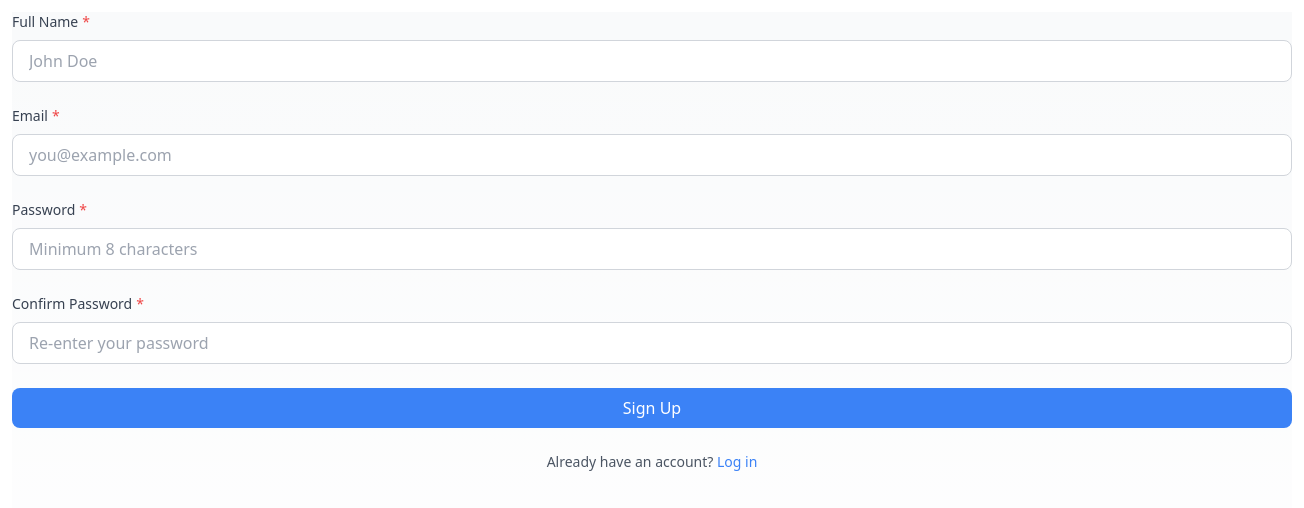
Test: SignupForm › validates password minimum length (8 characters)
This screenshot has width=1304, height=508.
Type "short" into the password field labelled "Password*" at (652, 249), box [12,228,1292,270]
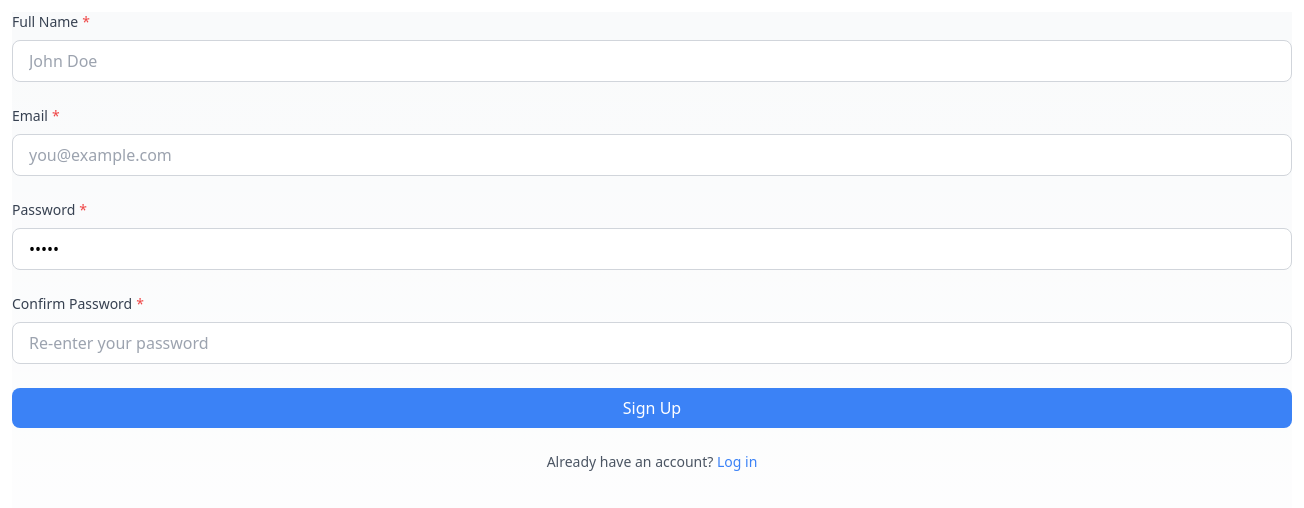
Click the button "Sign Up" at (652, 408), box [12,388,1292,428]
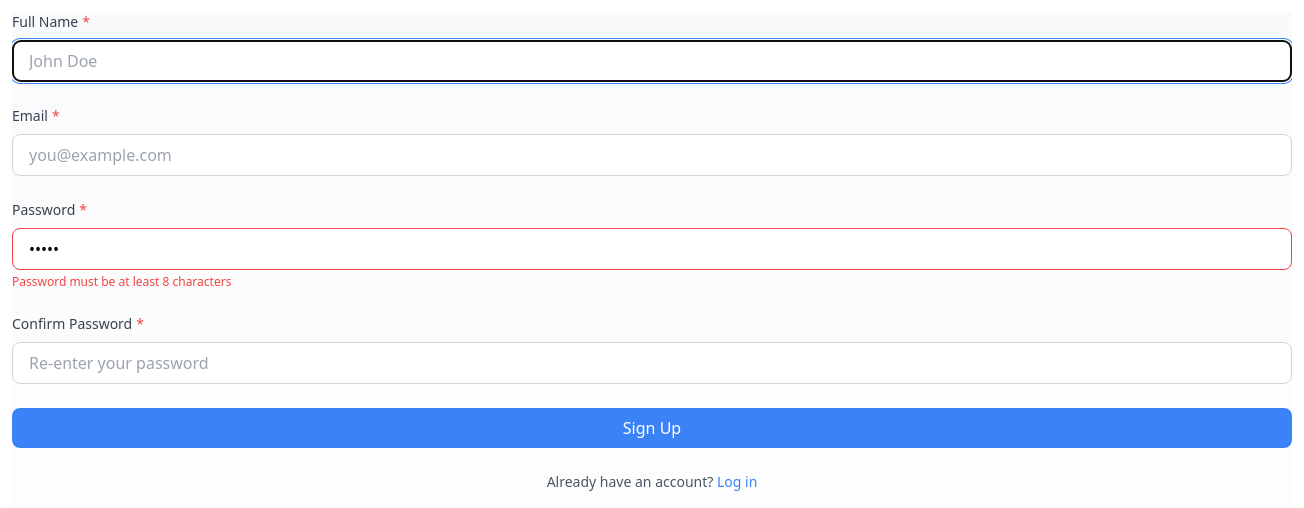
Result: the text "Password must be at least 8 characters" is shown at [12,273,231,290]
